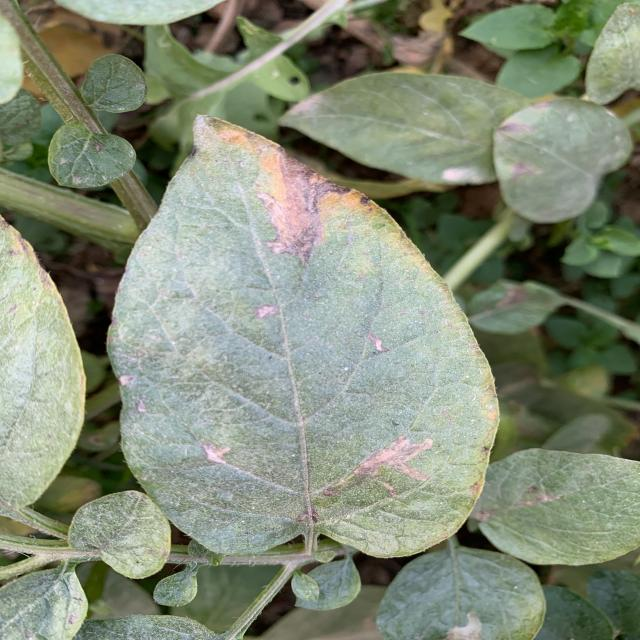lateblight: (208, 120, 350, 262), (353, 436, 433, 481)
